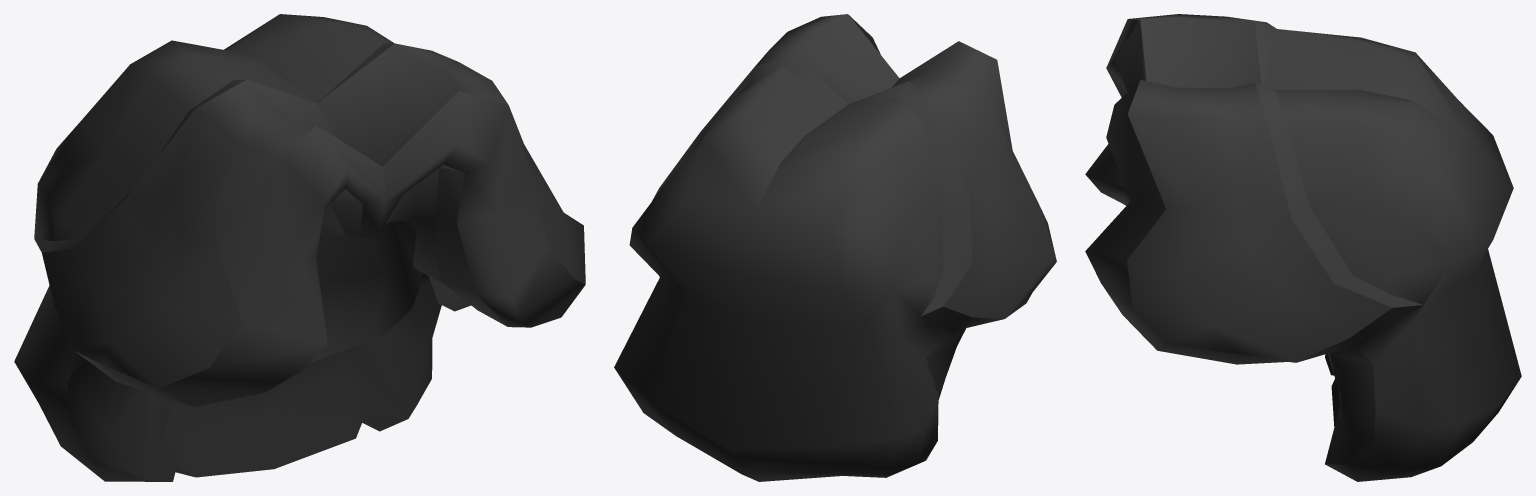
File: Hair_Black_6.fbx
3 renders of one model, left to right at view 1: azimuth 30°, elevation 25°; view 2: azimuth 150°, elevation 25°; view 3: azimuth 270°, elevation 25°, orthographic. The views are drawn at different scales.
Parts seen in each view (by area): view 1: Hair_Black_6; view 2: Hair_Black_6; view 3: Hair_Black_6.
Boxes of the visible parts, x1,y1,x2,y2 form: Hair_Black_6: [14, 14, 585, 481]; Hair_Black_6: [614, 14, 1056, 481]; Hair_Black_6: [1085, 14, 1521, 481].
Size of the model in its own units: 71.21 by 65.88 by 65.95.
